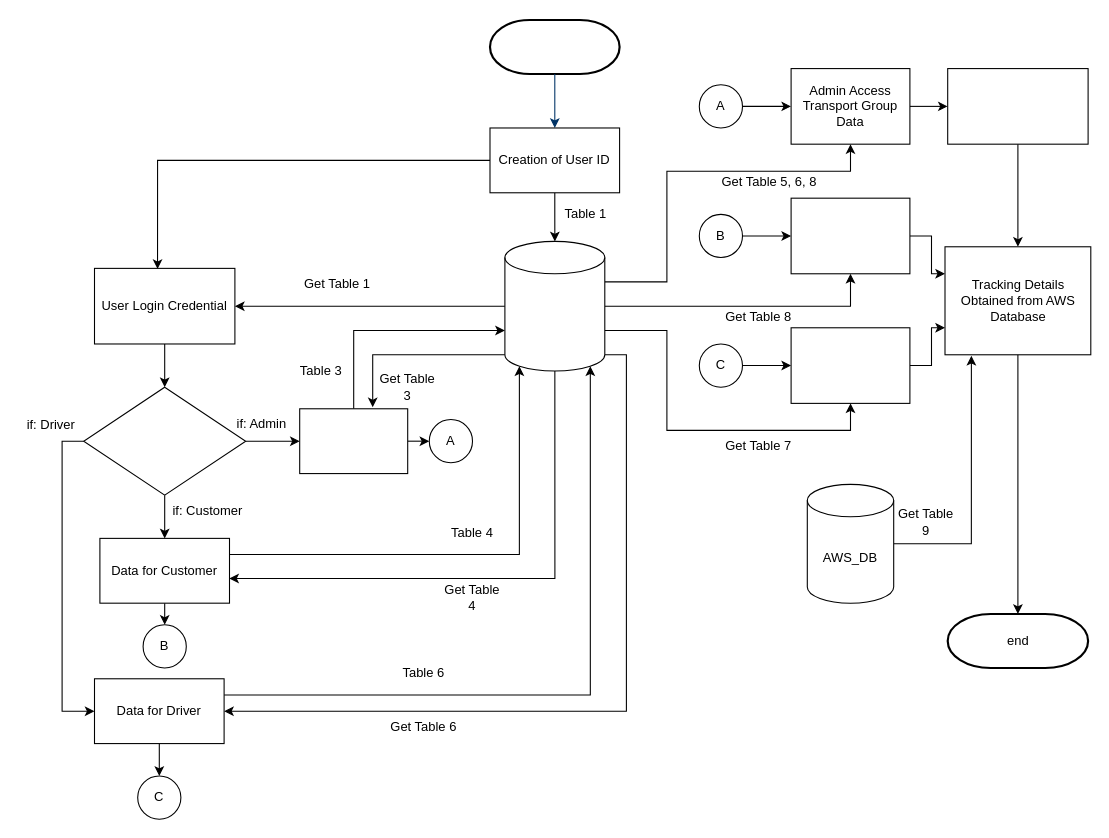
Some shapes in this 1109 by 838 pixel diagram are drawn without their labels. The shapes that lost their labels are listed below. From the top down, each one's box as (x1, y1, x2, y2) in pixels, then its label:
(488, 18, 620, 75): start
(947, 68, 1088, 144): Admin Access Driver & Order Detail
(790, 197, 910, 274): Customer Access Order Details
(504, 240, 605, 371): TMS_DB
(790, 327, 910, 403): Driver Access Vehicle Details
(83, 386, 246, 495): Decision based on user_type
(299, 408, 408, 474): Data for Admin
